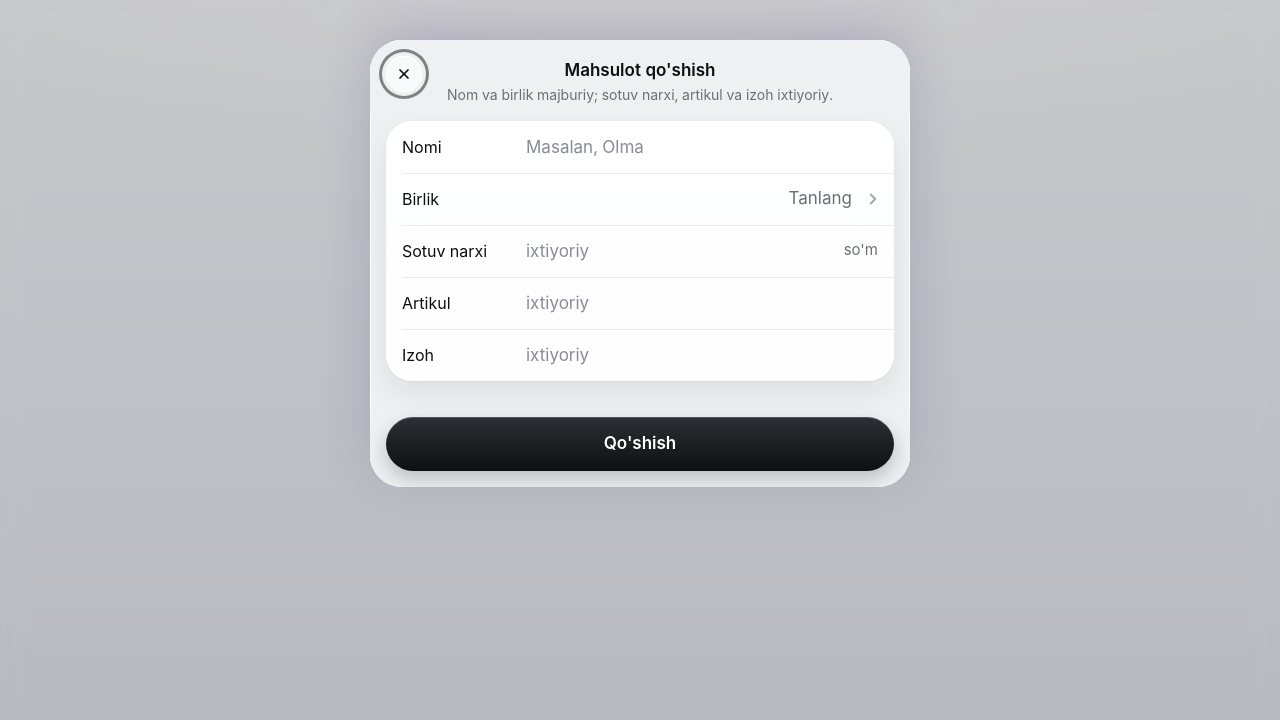
it: the form refuses in the API's words before asking, and shows the API's refusal
This screenshot has width=1280, height=720.
Click the button "Qo'shish": click(640, 444) [386,416,894,470]
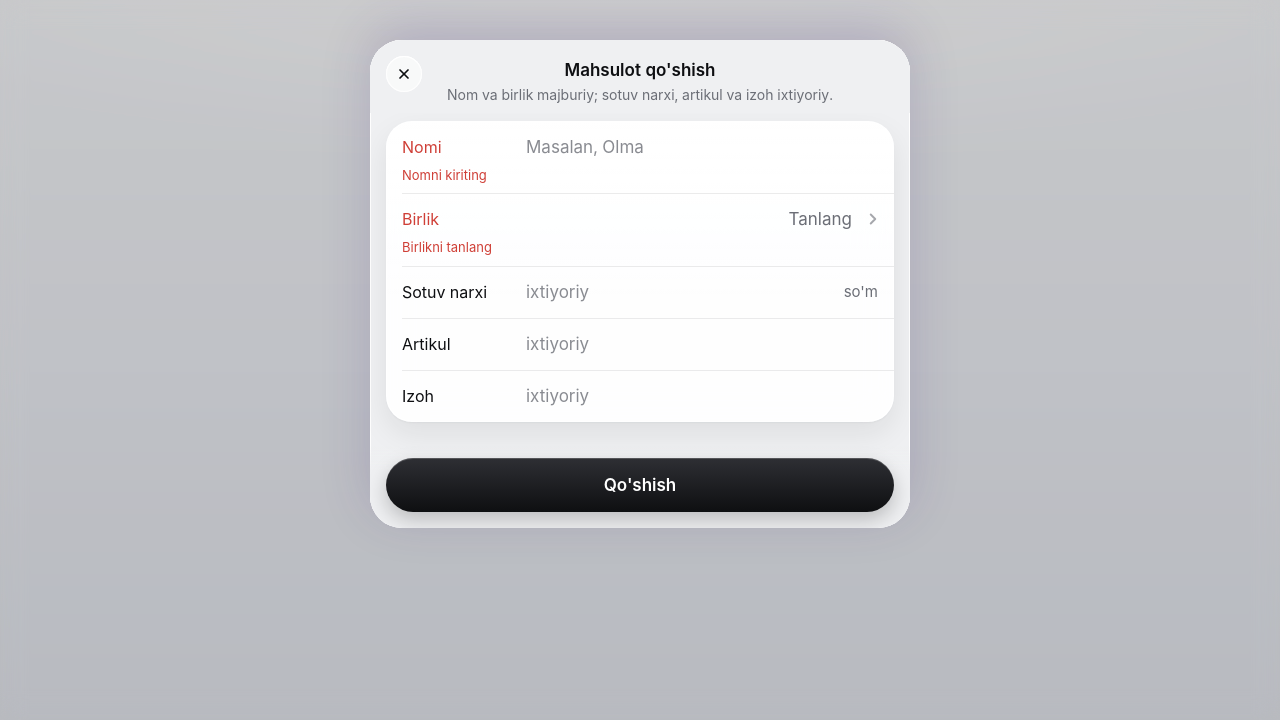
Now the text "Nomni kiriting" is shown, box [402,166,487,182]
Now the text "Birlikni tanlang" is shown, box [402,239,492,255]
In the field labelled "Nomi": (702, 146) [526,124,878,168], type "olma"
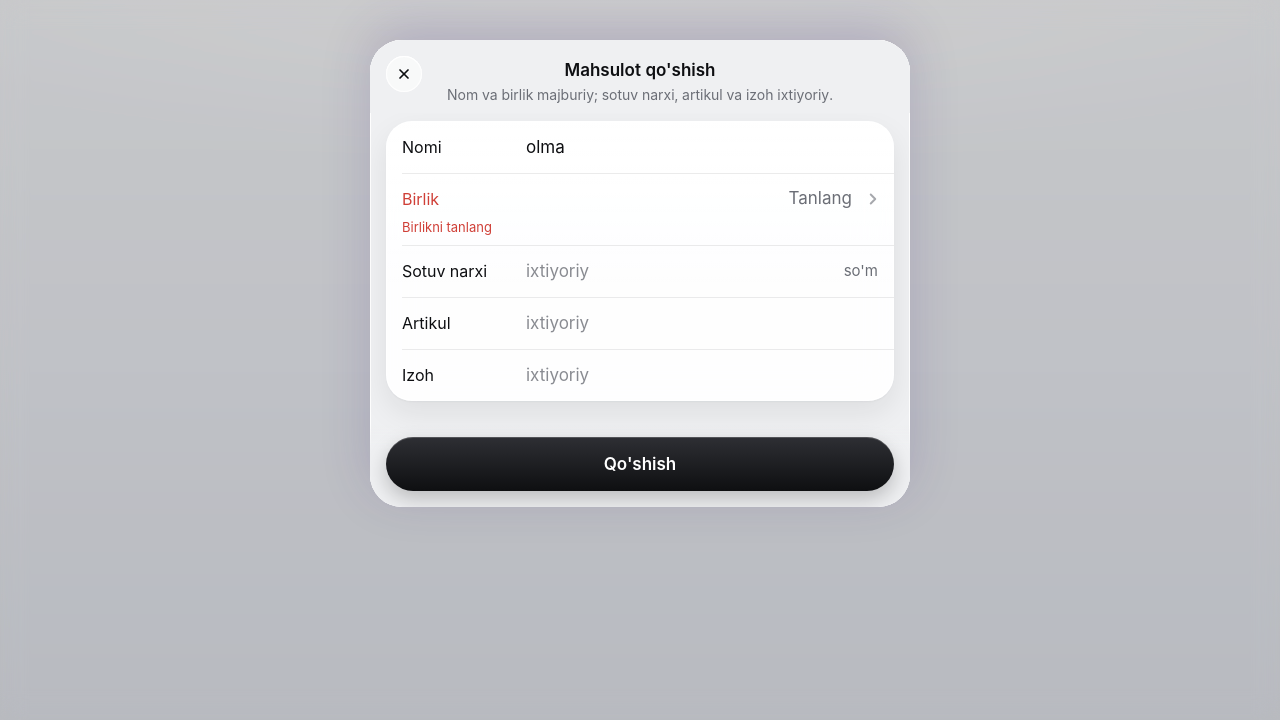
Click the button labelled "Birlik Tanlang": click(421, 198) [386,172,894,224]
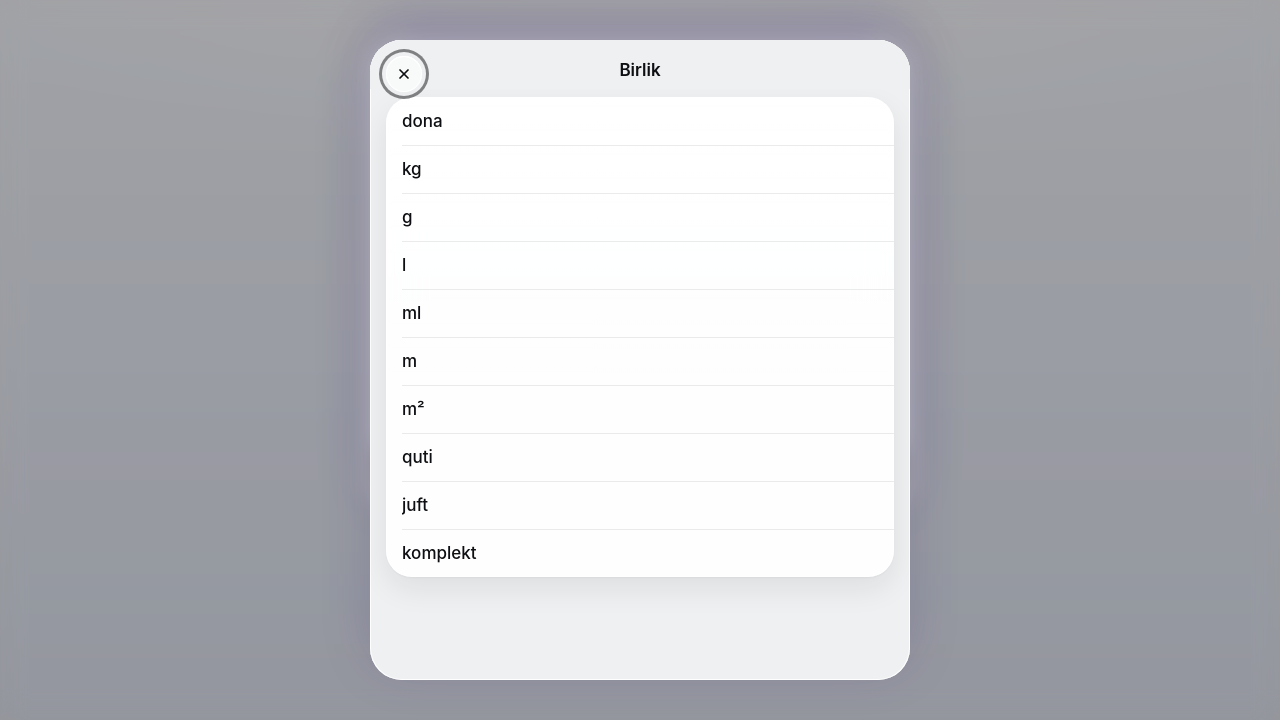
Click the option "dona": click(422, 121) [402,111,443,131]
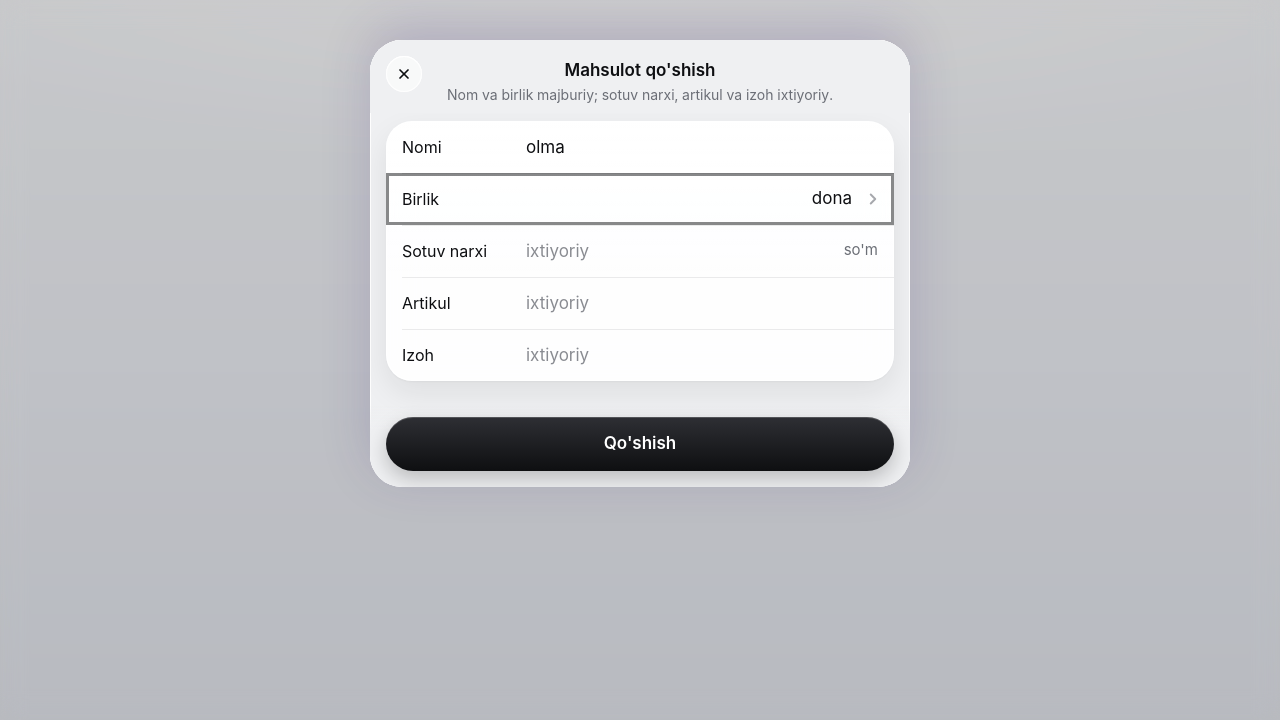
Now the list is gone
Click the button "Qo'shish": click(640, 444) [386,416,894,470]
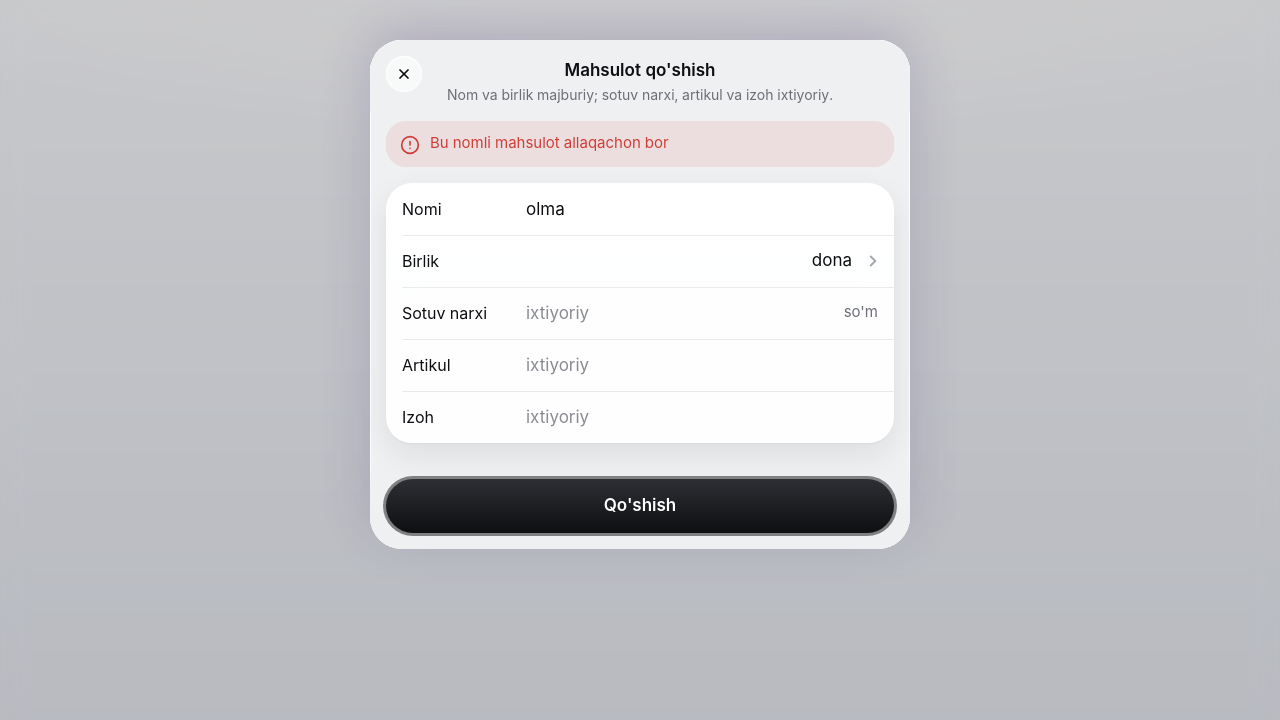
Now the text "Bu nomli mahsulot allaqachon bor" is shown, box [430,132,669,152]
